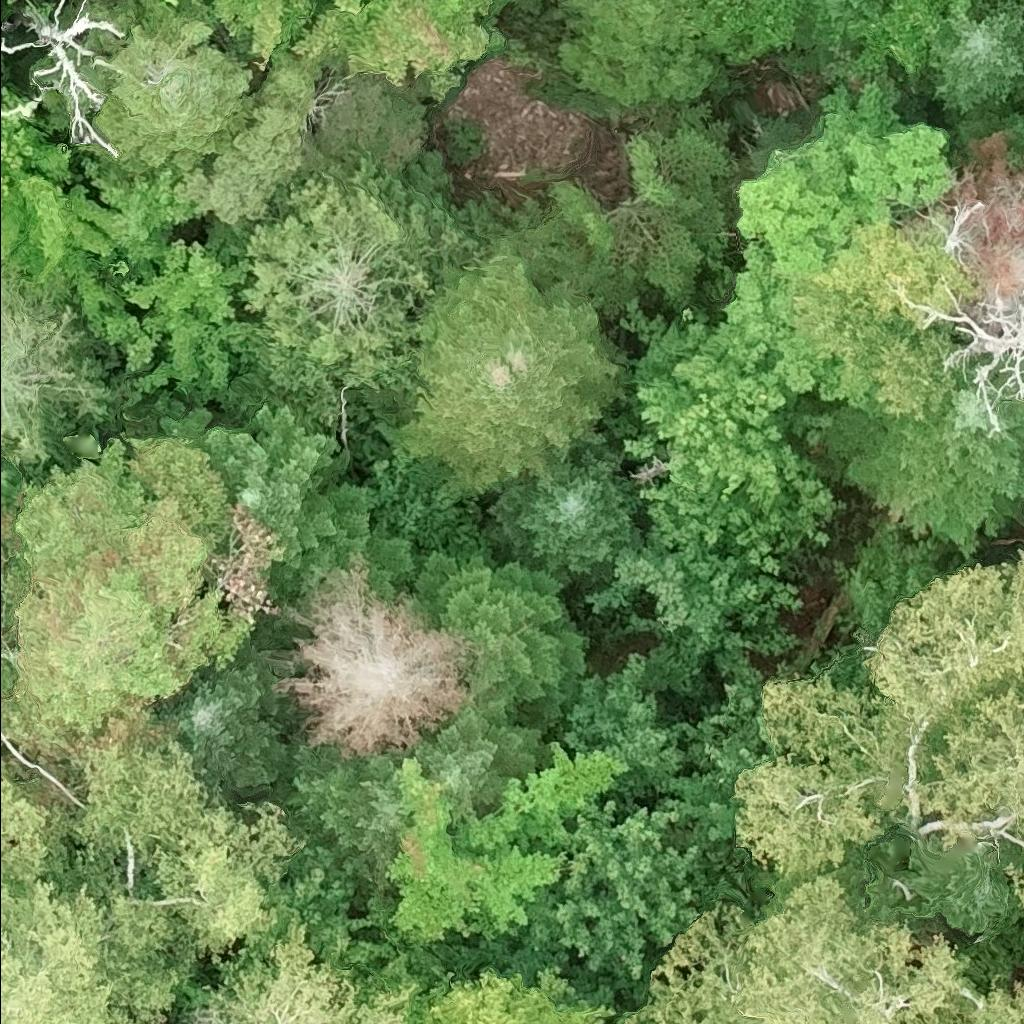crown: (732, 557, 1023, 875), (0, 435, 279, 752), (723, 114, 953, 411), (589, 448, 834, 697), (617, 876, 1023, 1023), (389, 246, 615, 494), (0, 776, 198, 1023), (386, 744, 620, 942), (246, 174, 428, 386), (0, 160, 200, 342), (789, 226, 968, 421), (298, 571, 477, 763), (397, 552, 586, 721), (891, 200, 1023, 440), (529, 800, 704, 977), (848, 381, 1023, 555), (175, 405, 337, 590), (640, 323, 788, 508), (653, 682, 783, 866), (144, 802, 300, 955), (198, 917, 419, 1023), (98, 22, 255, 170), (0, 269, 115, 468), (106, 240, 249, 394), (153, 638, 294, 791), (0, 0, 127, 157), (491, 453, 640, 581), (80, 731, 229, 858), (209, 58, 315, 230), (293, 742, 408, 891), (563, 656, 686, 793), (400, 704, 545, 816), (300, 0, 496, 81), (565, 0, 708, 108), (290, 480, 411, 603), (409, 967, 611, 1023), (932, 0, 1023, 113), (680, 0, 805, 63), (891, 0, 973, 77), (803, 0, 890, 36), (0, 119, 34, 202), (0, 463, 31, 512), (1011, 863, 1023, 907), (338, 0, 363, 13), (171, 0, 182, 4)
